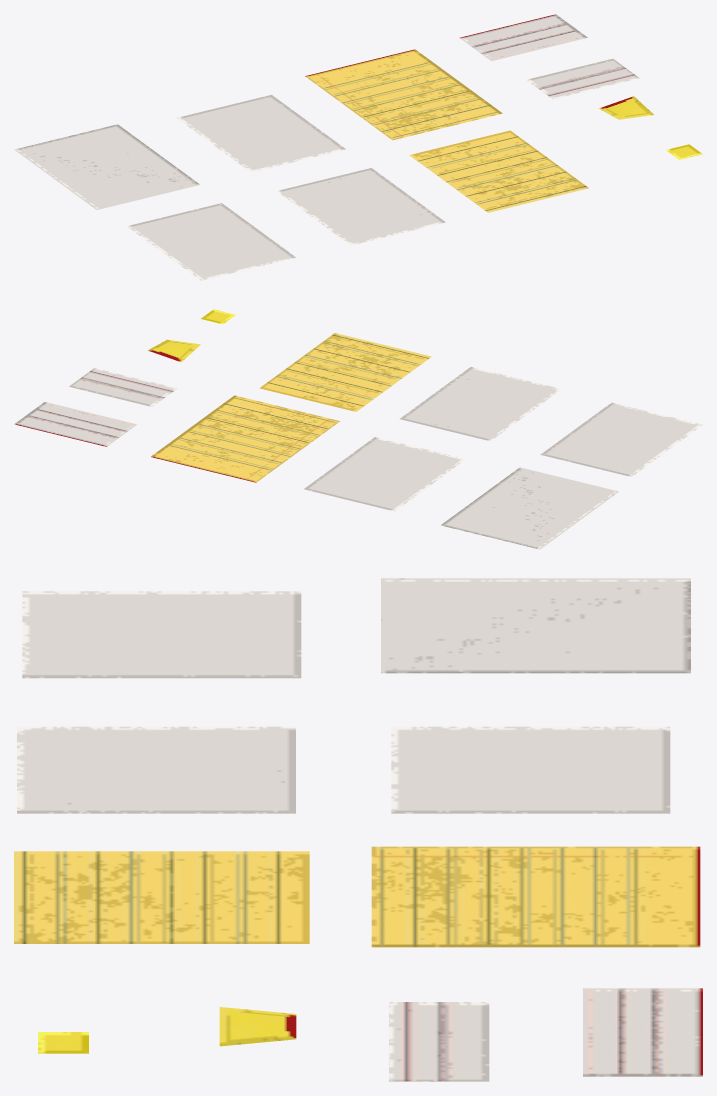
The model's file is office_notepads.glb.
The picture shows the model from 3 angles, top to bottom: view 1: azimuth 30°, elevation 25°; view 2: azimuth 150°, elevation 25°; view 3: azimuth 270°, elevation 25°; orthographic projection. The views are drawn at different scales.
Parts seen in each view (by area): view 1: mesh; view 2: mesh; view 3: mesh.
Boxes of the visible parts, <box> form: mesh: <box>14,14,702,280</box>; mesh: <box>14,309,702,549</box>; mesh: <box>14,578,702,1081</box>.
Size of the model in its own units: 1.65 by 0.022 by 0.9671.
Materials: 1 (1 with a texture image).
